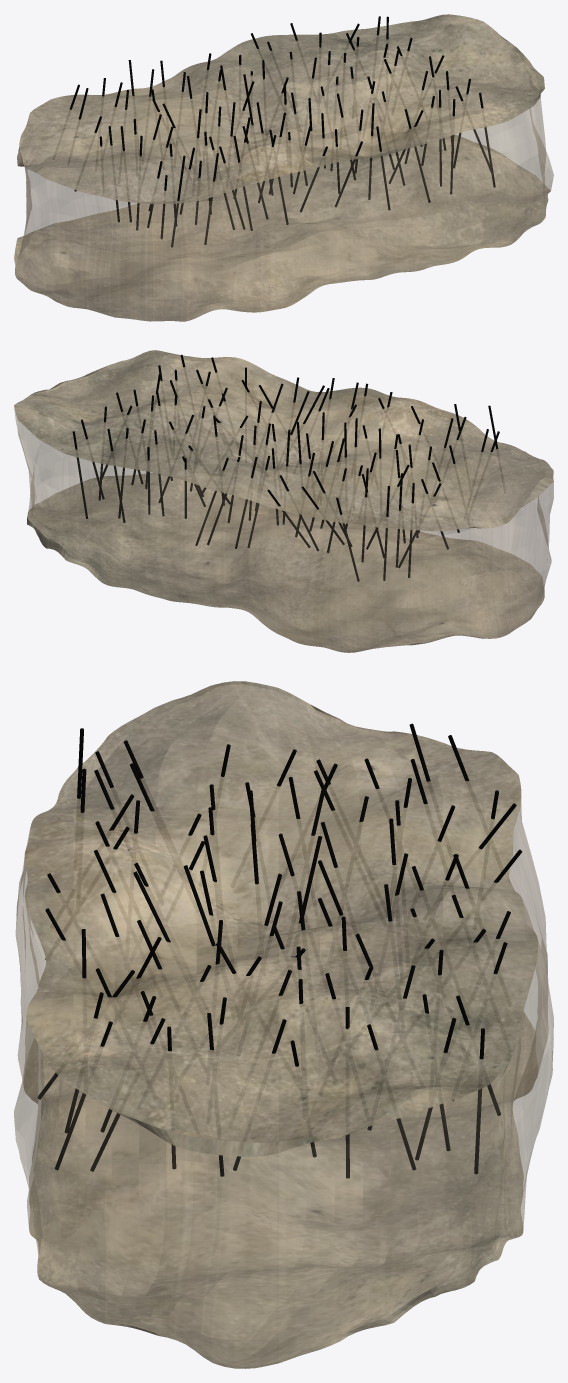
3 renders of one model, top to bottom at view 1: azimuth 30°, elevation 25°; view 2: azimuth 150°, elevation 25°; view 3: azimuth 270°, elevation 25°, orthographic. The views are drawn at different scales.
Visible parts, largest first — view 1: image_2026-07-06_13-10-21.001, Cylinder.050, Cylinder.049; view 2: image_2026-07-06_13-10-21.001, Cylinder.069, Cylinder.040, Cylinder.057; view 3: image_2026-07-06_13-10-21.001.
Boxes of the visible parts, x1,y1,x2,y2 form: image_2026-07-06_13-10-21.001: [14, 14, 553, 321]; Cylinder.050: [171, 153, 218, 247]; Cylinder.049: [233, 129, 288, 230]; image_2026-07-06_13-10-21.001: [14, 350, 553, 652]; Cylinder.069: [383, 483, 414, 580]; Cylinder.040: [361, 468, 402, 567]; Cylinder.057: [235, 456, 270, 548]; image_2026-07-06_13-10-21.001: [14, 681, 553, 1368].
Size of the model in its own units: 2.13 by 0.6949 by 1.1.
Materials: 3 (2 with a texture image).
